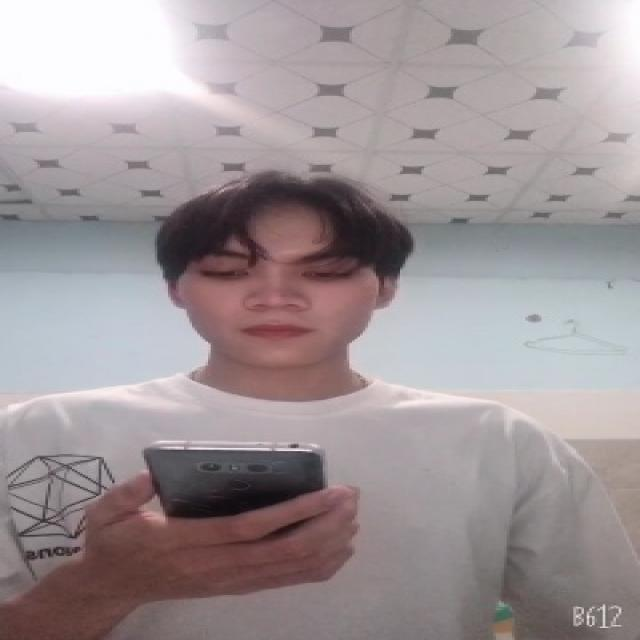Phone: (141, 438, 332, 526)
